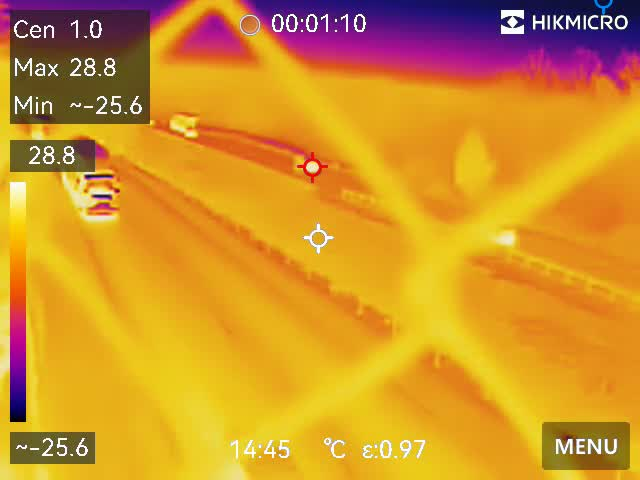heavyTruck: (56, 136, 121, 225), (169, 110, 204, 135)
vehicle: (184, 127, 198, 139)
